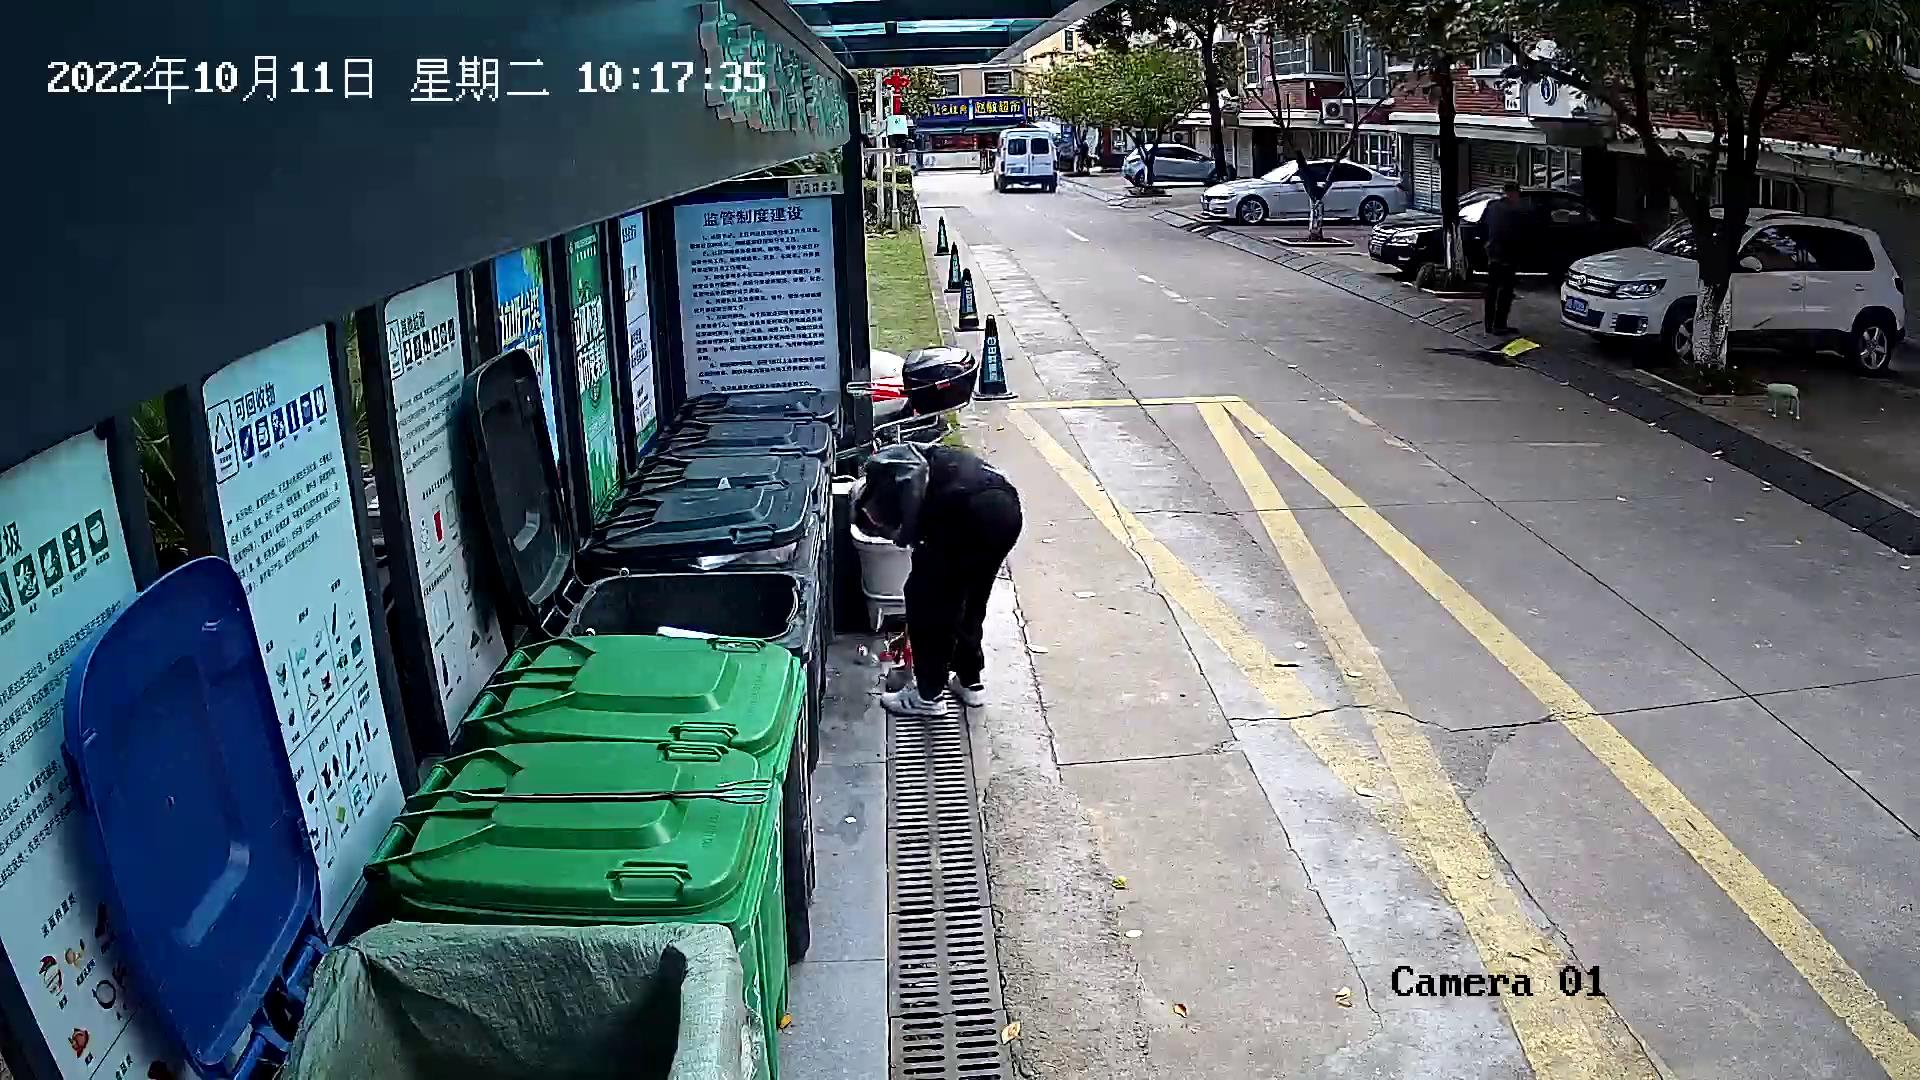person: (844, 433, 1030, 724)
